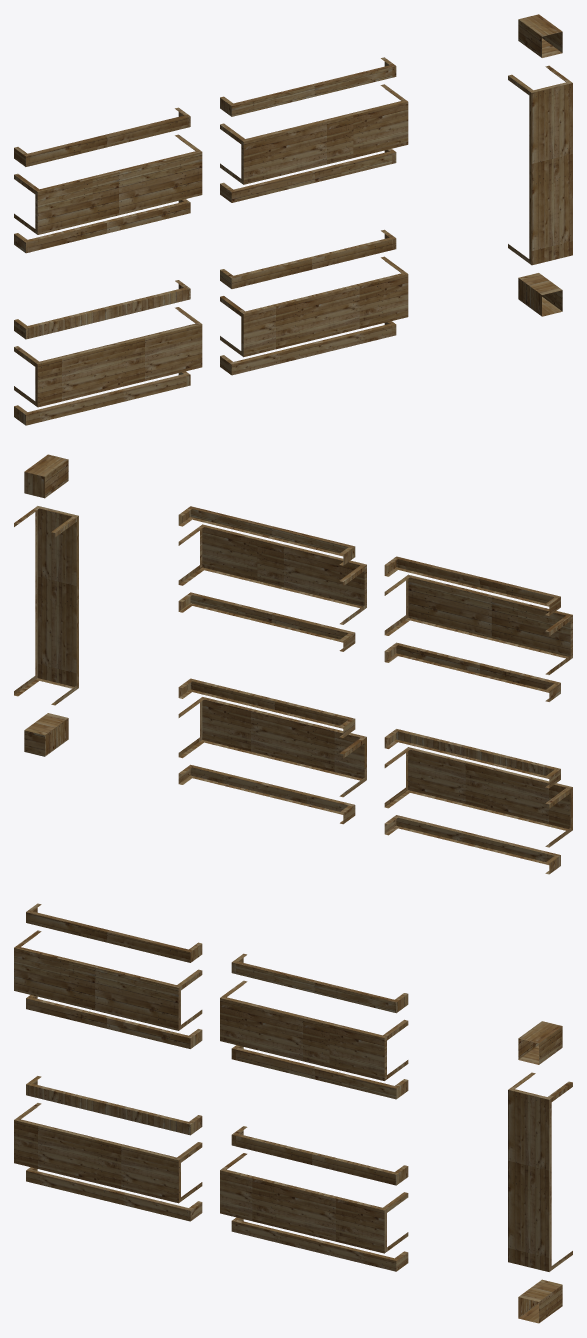
Rendered from food.fbx.
3 renders of one model, top to bottom at view 1: azimuth 30°, elevation 25°; view 2: azimuth 150°, elevation 25°; view 3: azimuth 330°, elevation 25°, orthographic.
Parts seen in each view (by area): view 1: Walls; view 2: Walls; view 3: Walls.
Boxes of the visible parts, bbox=[...] form: Walls: bbox=[14, 14, 572, 425]; Walls: bbox=[14, 454, 572, 874]; Walls: bbox=[14, 903, 572, 1323].
Size of the model in its own units: 13 by 6.5 by 1.
